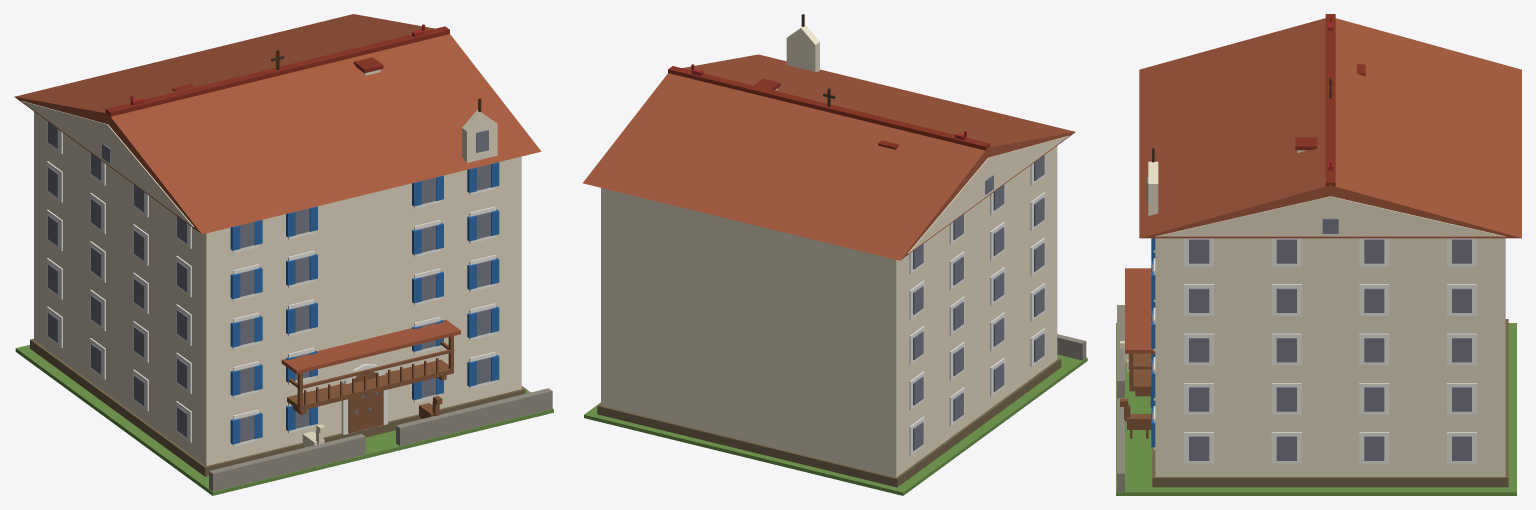
Rendered from house-2x2-5f-andean-a.glb.
3 renders of one model, left to right at view 1: azimuth 30°, elevation 25°; view 2: azimuth 150°, elevation 25°; view 3: azimuth 270°, elevation 25°, orthographic. The views are drawn at different scales.
Visible parts, largest first — view 1: house-2x2-5f-andean-a; view 2: house-2x2-5f-andean-a; view 3: house-2x2-5f-andean-a.
Boxes of the visible parts, x1,y1,x2,y2 form: house-2x2-5f-andean-a: (14, 14, 553, 495); house-2x2-5f-andean-a: (583, 14, 1087, 495); house-2x2-5f-andean-a: (1116, 14, 1521, 495).
Bounding box in the file's own units: 2.01 × 1.82 × 2.01.
Materials: 1 (1 with a texture image).
